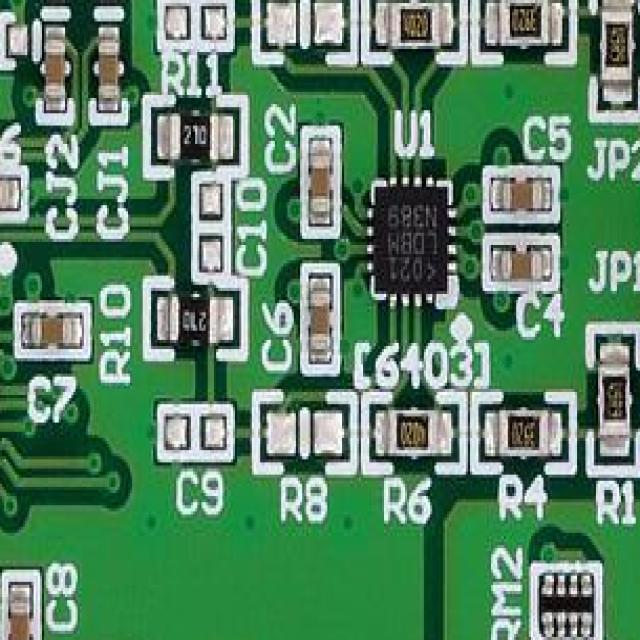IC: (363, 172, 455, 303)
capacitor: (0, 0, 76, 129), (88, 0, 126, 119), (15, 300, 88, 358), (300, 126, 338, 236), (483, 162, 554, 220), (487, 233, 556, 288), (302, 264, 336, 370), (0, 569, 38, 640), (0, 162, 25, 218)
pads: (250, 392, 356, 468), (247, 0, 354, 67), (151, 402, 233, 462), (191, 168, 229, 272), (151, 0, 233, 46)
resistor: (145, 95, 241, 171), (470, 395, 571, 465), (145, 279, 241, 352), (363, 395, 462, 465), (590, 322, 636, 472), (365, 0, 462, 58), (592, 0, 638, 116), (531, 563, 600, 640), (474, 0, 569, 55)
